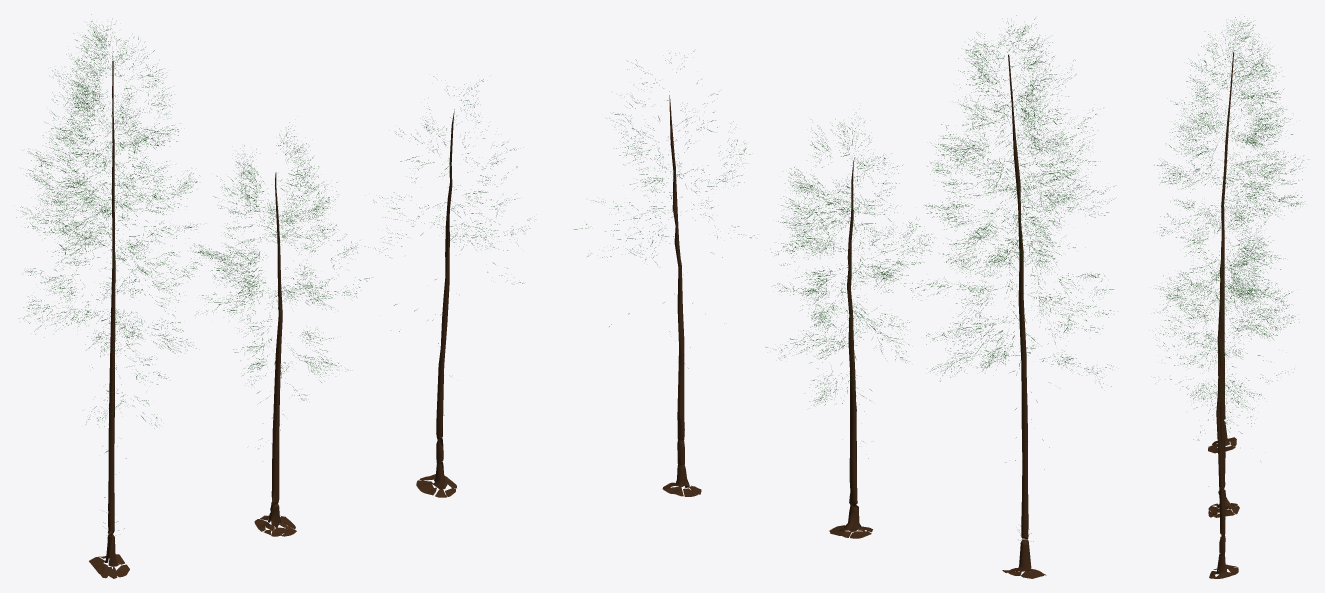
Rendered from mature_fir_realistic.obj.
3 renders of one model, left to right at view 1: azimuth 30°, elevation 25°; view 2: azimuth 150°, elevation 25°; view 3: azimuth 270°, elevation 25°, orthographic. The views are drawn at different scales.
Visible parts, largest first — view 1: part_2__fir_tree_01_twig, part_6__fir_tree_01_trunk_a, part_4__fir_tree_01_trunk_c, part_5__fir_tree_01_trunk_b; view 2: part_2__fir_tree_01_twig, part_6__fir_tree_01_trunk_a, part_4__fir_tree_01_trunk_c, part_5__fir_tree_01_trunk_b; view 3: part_2__fir_tree_01_twig, part_4__fir_tree_01_trunk_c, part_6__fir_tree_01_trunk_a, part_5__fir_tree_01_trunk_b.
Boxes of the visible parts, bbox=[...] form: part_2__fir_tree_01_twig: bbox=[16, 14, 529, 428]; part_6__fir_tree_01_trunk_a: bbox=[89, 60, 129, 578]; part_4__fir_tree_01_trunk_c: bbox=[416, 109, 456, 497]; part_5__fir_tree_01_trunk_b: bbox=[254, 172, 296, 536]; part_2__fir_tree_01_twig: bbox=[574, 15, 1114, 405]; part_6__fir_tree_01_trunk_a: bbox=[1002, 54, 1046, 578]; part_4__fir_tree_01_trunk_c: bbox=[662, 91, 701, 496]; part_5__fir_tree_01_trunk_b: bbox=[829, 160, 872, 538]; part_2__fir_tree_01_twig: bbox=[1154, 16, 1303, 440]; part_4__fir_tree_01_trunk_c: bbox=[1209, 282, 1238, 578]; part_6__fir_tree_01_trunk_a: bbox=[1208, 52, 1236, 453]; part_5__fir_tree_01_trunk_b: bbox=[1208, 227, 1239, 517].
Size of the model in its own units: 18.73 by 18.9 by 6.46.
